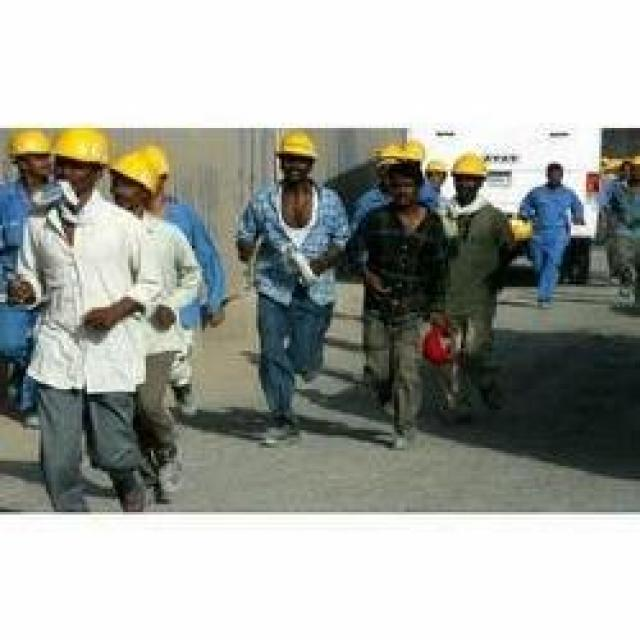Safety-Helmet: (105, 138, 179, 202), (49, 120, 118, 177), (366, 131, 433, 174), (264, 123, 325, 169), (0, 123, 54, 166), (448, 143, 497, 187)
